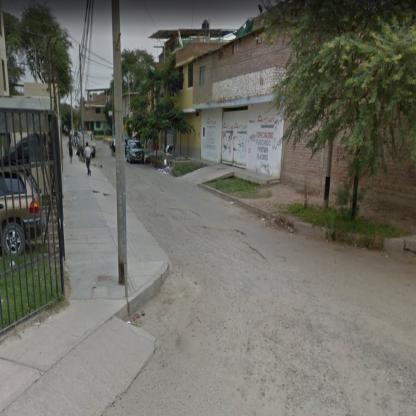Obstaculo: (244, 316, 416, 416), (190, 227, 267, 270), (164, 210, 202, 222), (142, 184, 165, 193), (276, 257, 286, 262), (231, 216, 241, 220)
Peaton: (85, 142, 94, 178), (68, 139, 75, 165)
Vehiculo: (127, 141, 146, 165)
